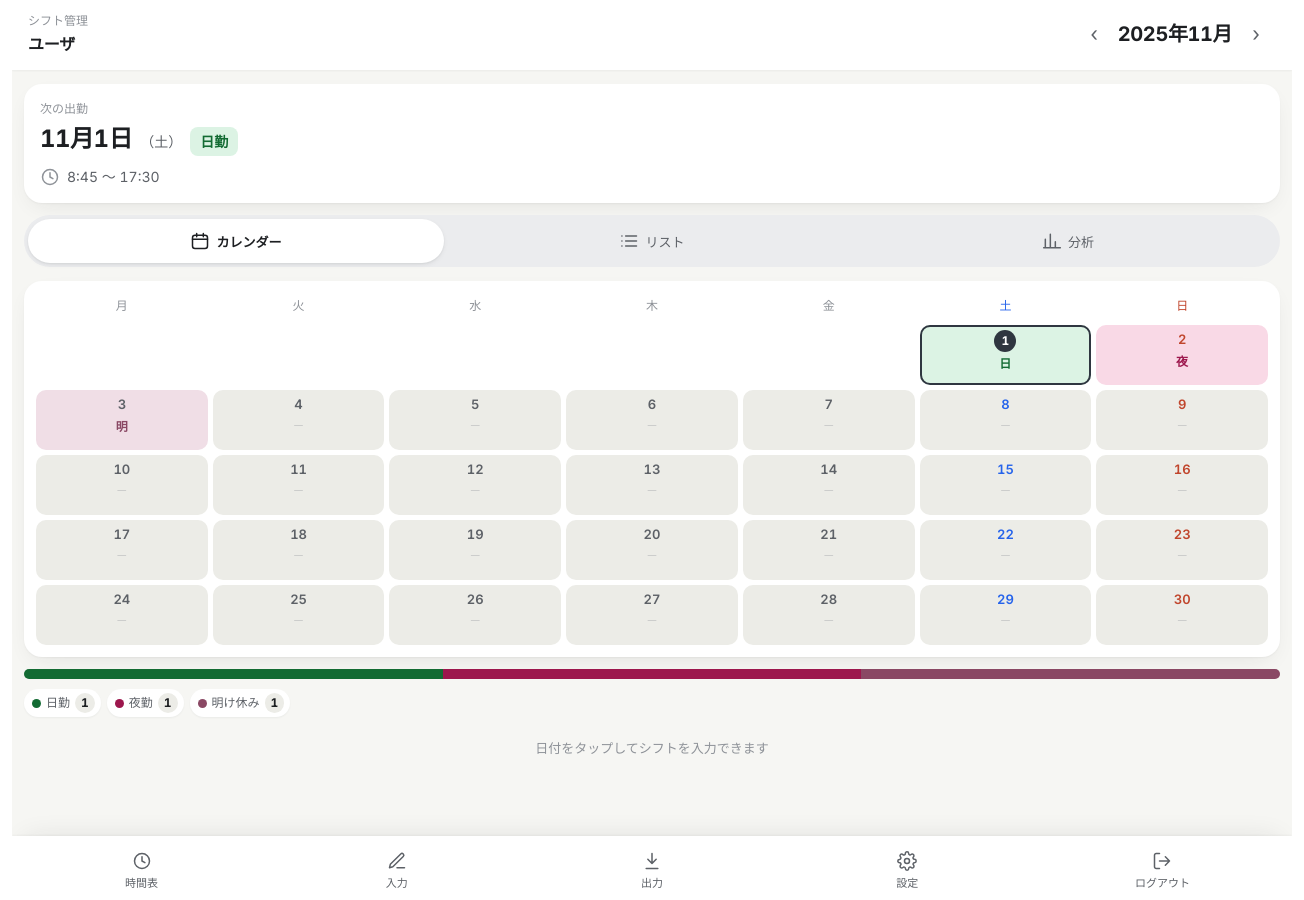
Test: 分析ビュー › 分析タブで疲労度の推移が出る
Click the button "分析": (1068, 241) [860,219,1276,263]
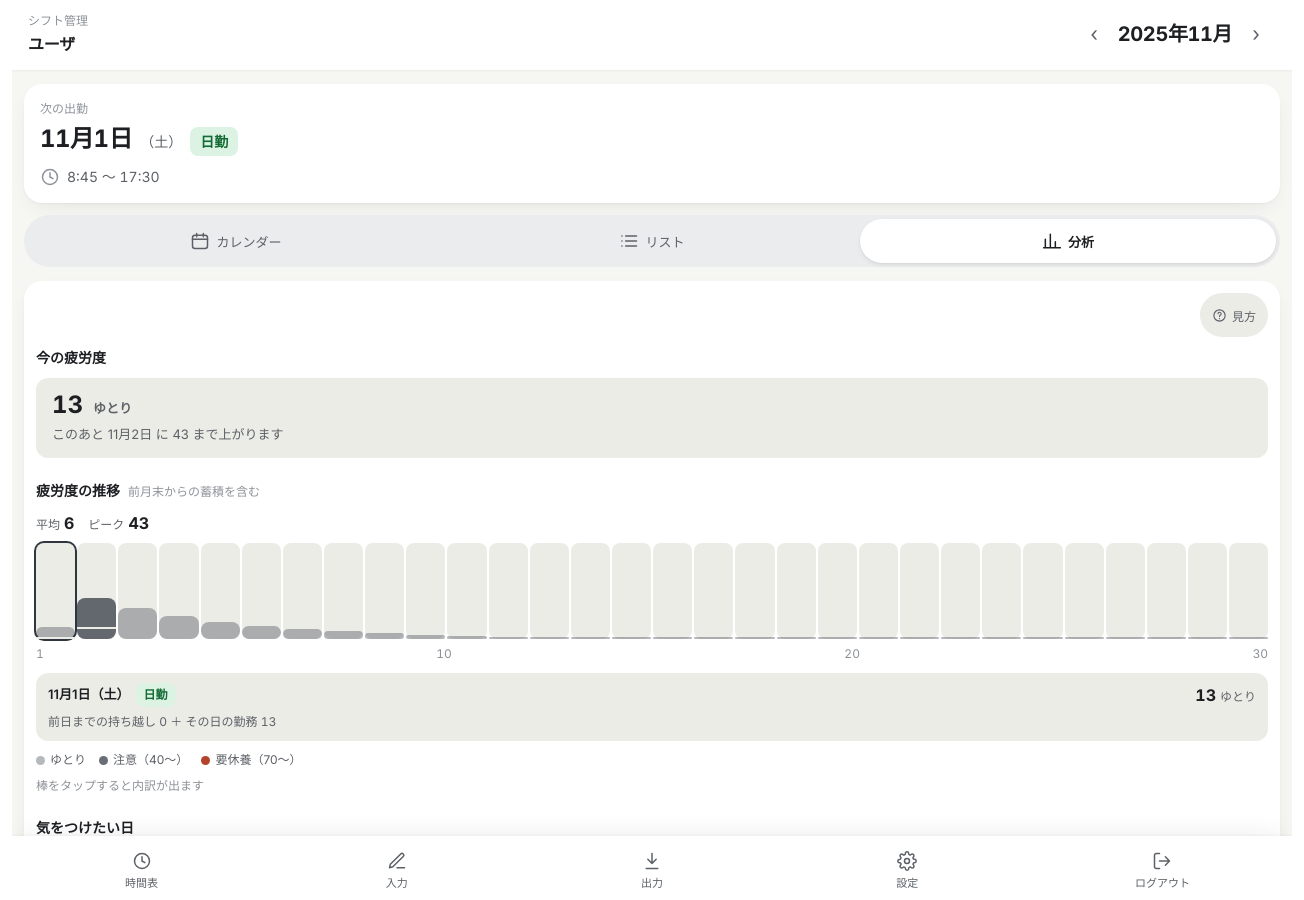
Check: the heading "疲労度の推移 前月末からの蓄積を含む" is shown, box [36,482,260,499]
Check: the number of buttons with class "fatigue-chart__slot" is 30
